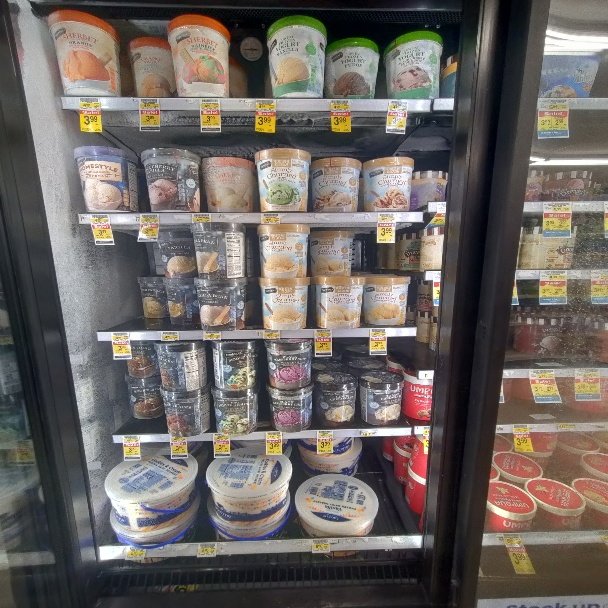All PRICE TAGS: (540, 98, 568, 111), (543, 202, 571, 212), (503, 533, 522, 546), (529, 370, 555, 379), (575, 370, 600, 379), (541, 271, 566, 280), (312, 539, 329, 552), (329, 99, 349, 110), (256, 99, 275, 110), (198, 542, 215, 554), (139, 98, 159, 108), (79, 98, 99, 108), (261, 213, 280, 223), (200, 99, 219, 109), (191, 213, 211, 222), (389, 100, 407, 110), (160, 331, 179, 340), (111, 332, 130, 341), (378, 213, 396, 222), (140, 214, 158, 223), (592, 270, 607, 280), (370, 328, 386, 337), (263, 330, 281, 338), (91, 215, 109, 223), (127, 547, 145, 555), (558, 423, 576, 431), (266, 431, 283, 439), (123, 435, 140, 443), (204, 331, 221, 339), (360, 429, 379, 436), (315, 329, 331, 337), (513, 425, 529, 433), (169, 436, 187, 443), (213, 433, 229, 440), (318, 430, 333, 437)
